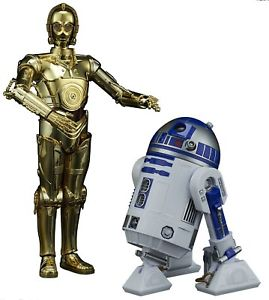r2d2: (122, 117, 260, 293)
